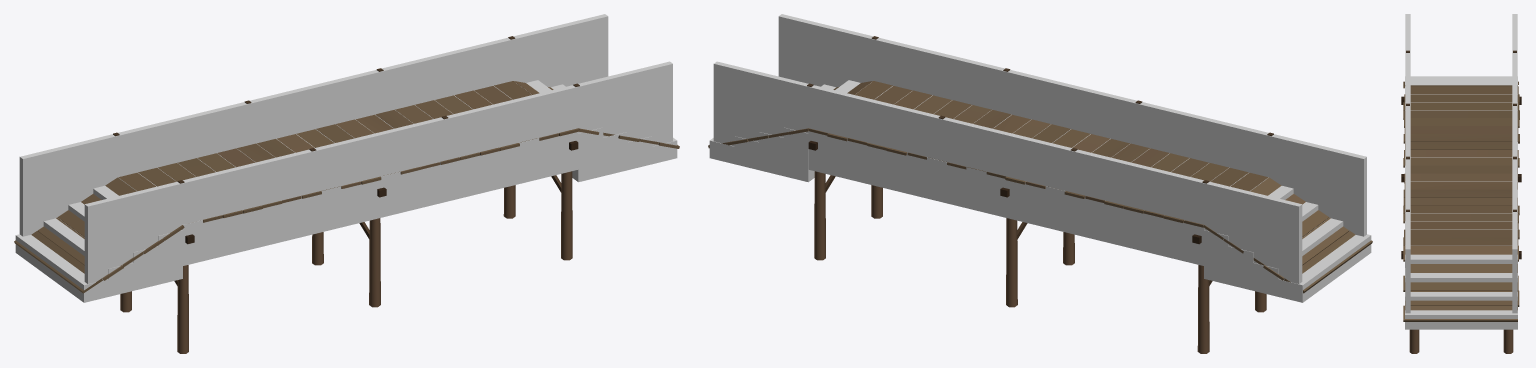
The model's file is bridge_wood.glb.
3 renders of one model, left to right at view 1: azimuth 30°, elevation 25°; view 2: azimuth 150°, elevation 25°; view 3: azimuth 270°, elevation 25°, orthographic. The views are drawn at different scales.
Visible parts, largest first — view 1: COL_rail_s, COL_rail_n, bridge_wood, WALK_deck, WALK_ramp_w3, WALK_ramp_e0, WALK_ramp_w0, WALK_ramp_w2, WALK_ramp_w1, WALK_ramp_e1, WALK_ramp_e2; view 2: COL_rail_n, COL_rail_s, bridge_wood, WALK_deck, WALK_ramp_w3, WALK_ramp_e0, WALK_ramp_w0, WALK_ramp_w2, WALK_ramp_w1, WALK_ramp_e1, WALK_ramp_e2; view 3: bridge_wood, WALK_ramp_e3, COL_rail_n, COL_rail_s, WALK_ramp_e1, WALK_ramp_e0, WALK_deck, WALK_ramp_e2, WALK_ramp_w0, WALK_ramp_w2, WALK_ramp_w1, WALK_ramp_w3.
Part boxes in pixels (x1,y1,x2,y2): COL_rail_s: (84, 61, 672, 283); COL_rail_n: (19, 14, 608, 236); bridge_wood: (14, 36, 679, 353); WALK_deck: (118, 81, 578, 245); WALK_ramp_w3: (15, 234, 108, 302); WALK_ramp_e0: (526, 80, 603, 182); WALK_ramp_w0: (93, 185, 182, 284); WALK_ramp_w2: (43, 218, 133, 296); WALK_ramp_w1: (68, 202, 158, 290); WALK_ramp_e1: (551, 84, 627, 175); WALK_ramp_e2: (628, 136, 652, 169); COL_rail_n: (713, 61, 1302, 283); COL_rail_s: (778, 14, 1366, 236); bridge_wood: (708, 36, 1372, 353); WALK_deck: (808, 82, 1268, 245); WALK_ramp_w3: (1278, 234, 1371, 302); WALK_ramp_e0: (783, 80, 860, 182); WALK_ramp_w0: (1204, 186, 1293, 284); WALK_ramp_w2: (1253, 218, 1343, 296); WALK_ramp_w1: (1228, 202, 1318, 290); WALK_ramp_e1: (759, 84, 835, 175); WALK_ramp_e2: (734, 136, 758, 169); bridge_wood: (1401, 50, 1521, 353); WALK_ramp_e3: (1405, 310, 1517, 329); COL_rail_n: (1512, 14, 1517, 313); COL_rail_s: (1405, 14, 1410, 313); WALK_ramp_e1: (1405, 268, 1517, 282); WALK_ramp_e0: (1405, 254, 1517, 267); WALK_deck: (1405, 86, 1517, 245); WALK_ramp_e2: (1405, 292, 1517, 300); WALK_ramp_w0: (1405, 80, 1517, 85); WALK_ramp_w2: (1405, 77, 1517, 79); WALK_ramp_w1: (1405, 79, 1517, 80); WALK_ramp_w3: (1405, 76, 1517, 77).
Bounding box in the file's own units: 15.08 × 4.22 × 3.2.
